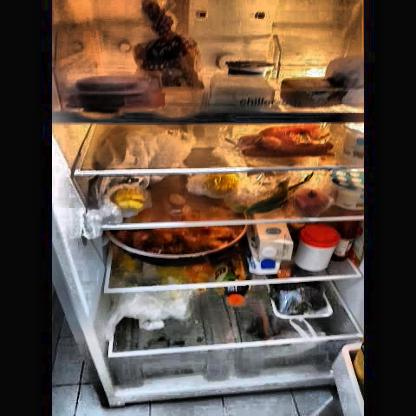broccoli: (276, 285, 328, 315)
butter: (283, 77, 343, 106)
carrot: (240, 128, 332, 154)
cheese: (208, 76, 270, 100)
green_chillies: (236, 185, 292, 215)
lemon: (112, 185, 150, 212), (205, 173, 238, 194)
milk: (249, 226, 291, 272)
salami: (82, 75, 146, 93)
tomato: (294, 187, 328, 212)
yoghurt: (330, 168, 363, 209), (224, 60, 276, 74)
